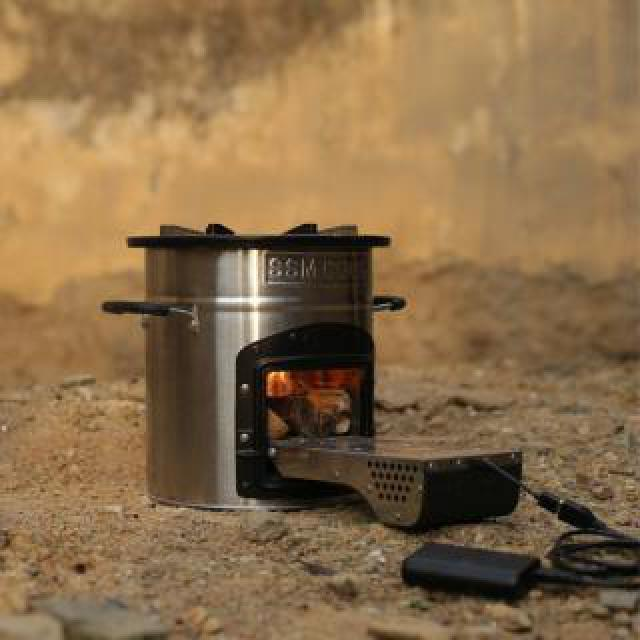Fire: (250, 342, 334, 398)
